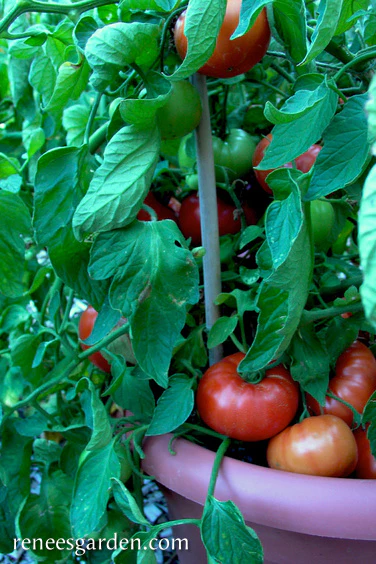tomato: (192, 343, 308, 437)
